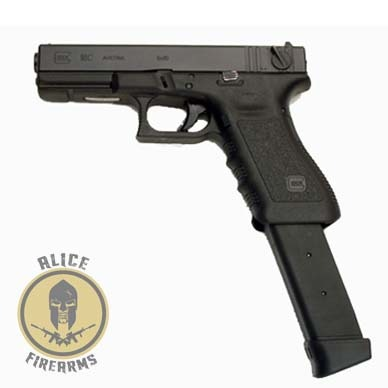gun: (29, 39, 379, 377)
